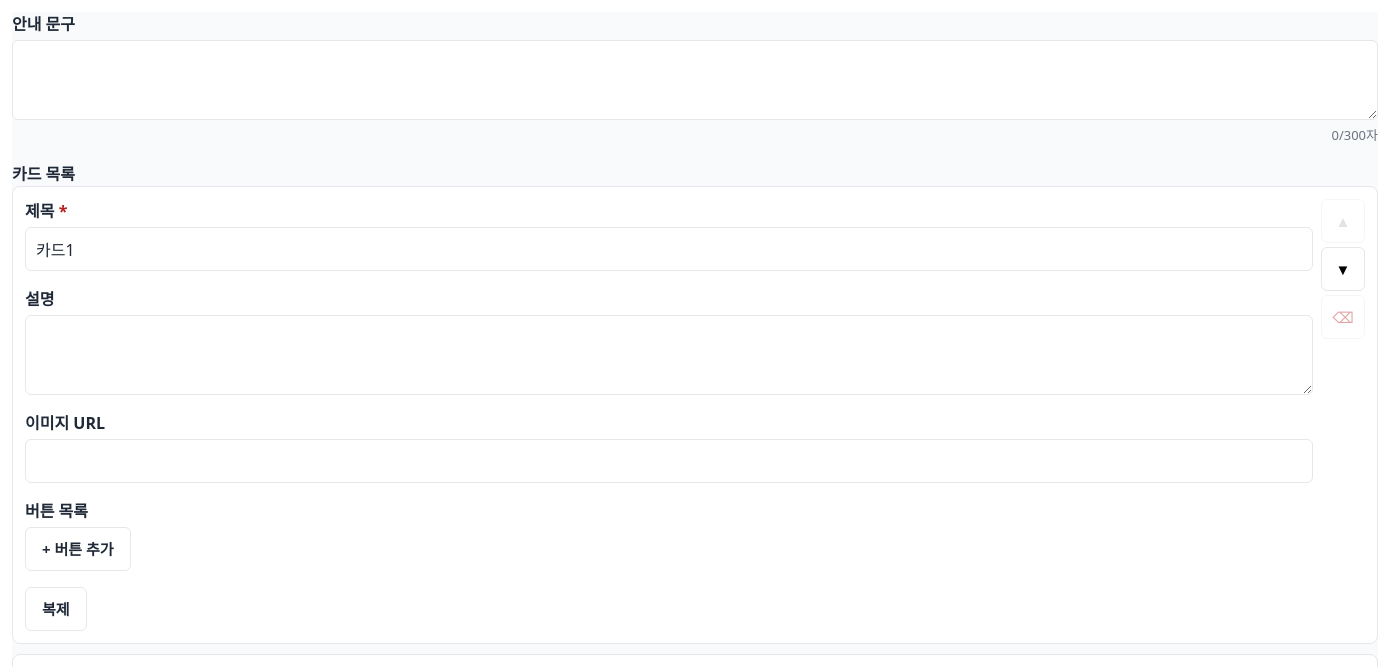
Test: CarouselOutputEditor — 이미지 URL 인라인 검증(§3.1) › 퓨니코드 도메인은 경고만(저장 가능, 오류 아님)
The image size is (1390, 667).
In the field labelled "이미지 URL": (669, 460) [25,438,1313,482], type "https://xn--bcdef.example.com/a.png"
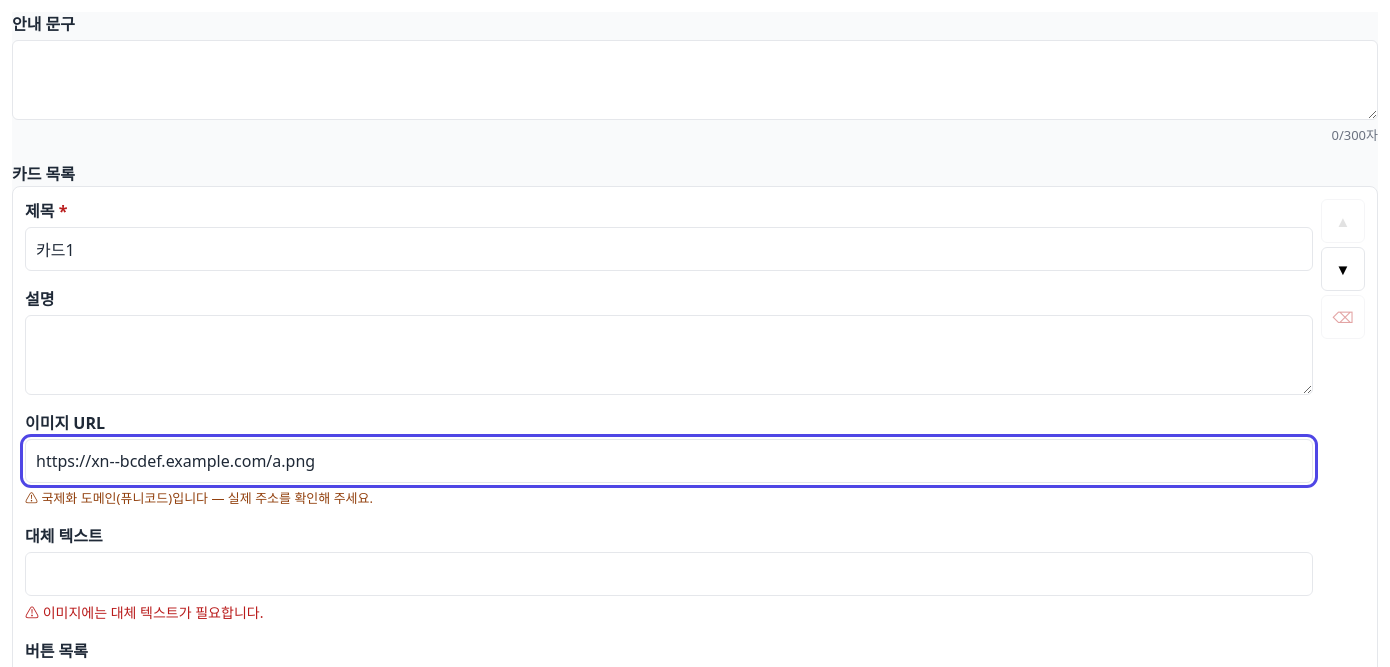
Expected: the text "⚠ 국제화 도메인(퓨니코드)입니다 — 실제 주소를 확인해 주세요." is shown, [25,488,373,506]
